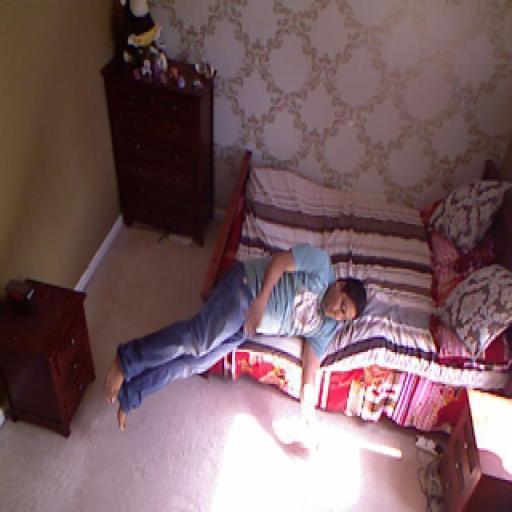Fall: (98, 233, 375, 442)
